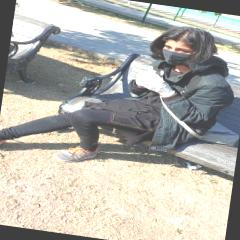gloved: (133, 72, 176, 95)
